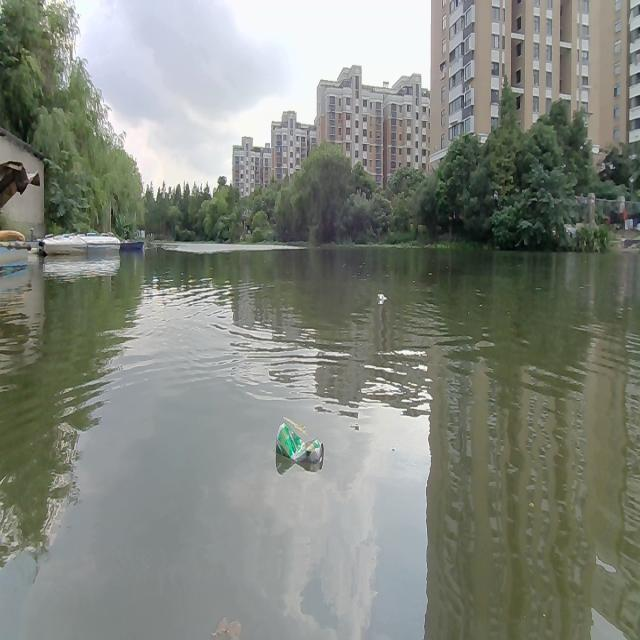bottle: (273, 425, 325, 468)
